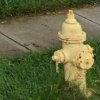a fire hydrant: (54, 9, 93, 82)
